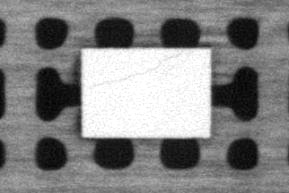DIE_CRACK: (90, 51, 182, 88)
